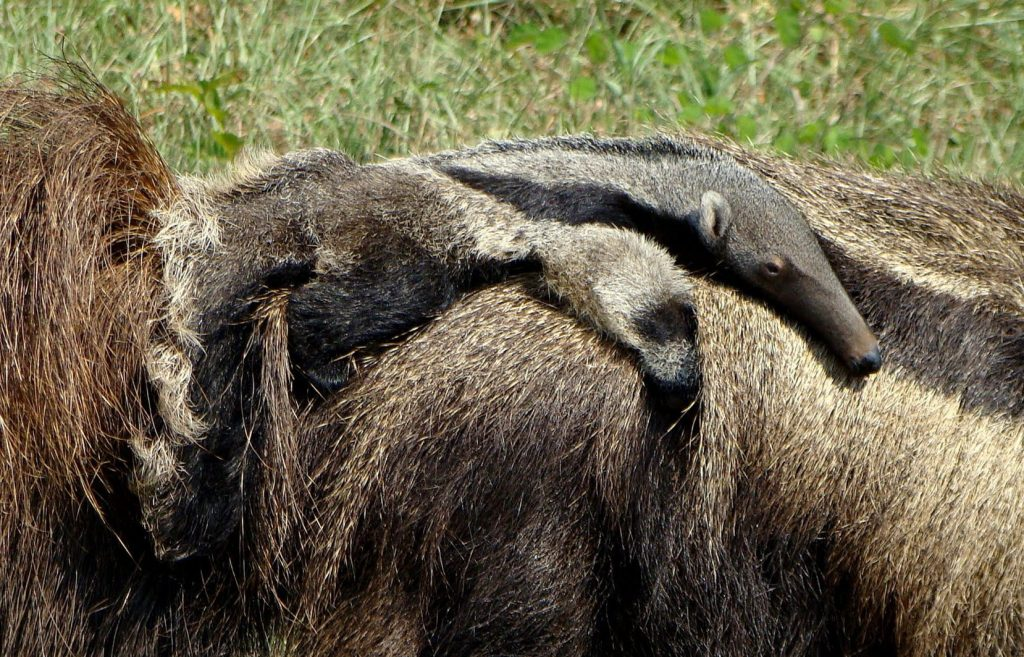TamanduaBandeira: (17, 79, 1020, 656), (127, 128, 878, 462)
